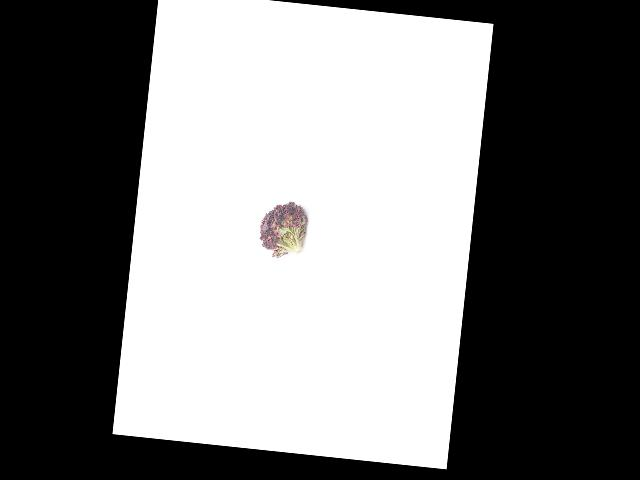lettuce: (255, 196, 313, 258)
